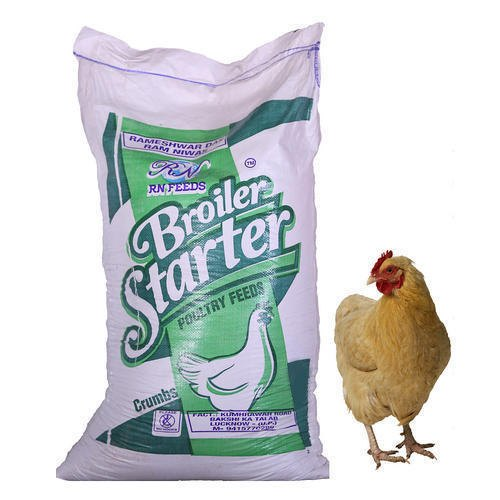feed_bag: (47, 21, 335, 480)
